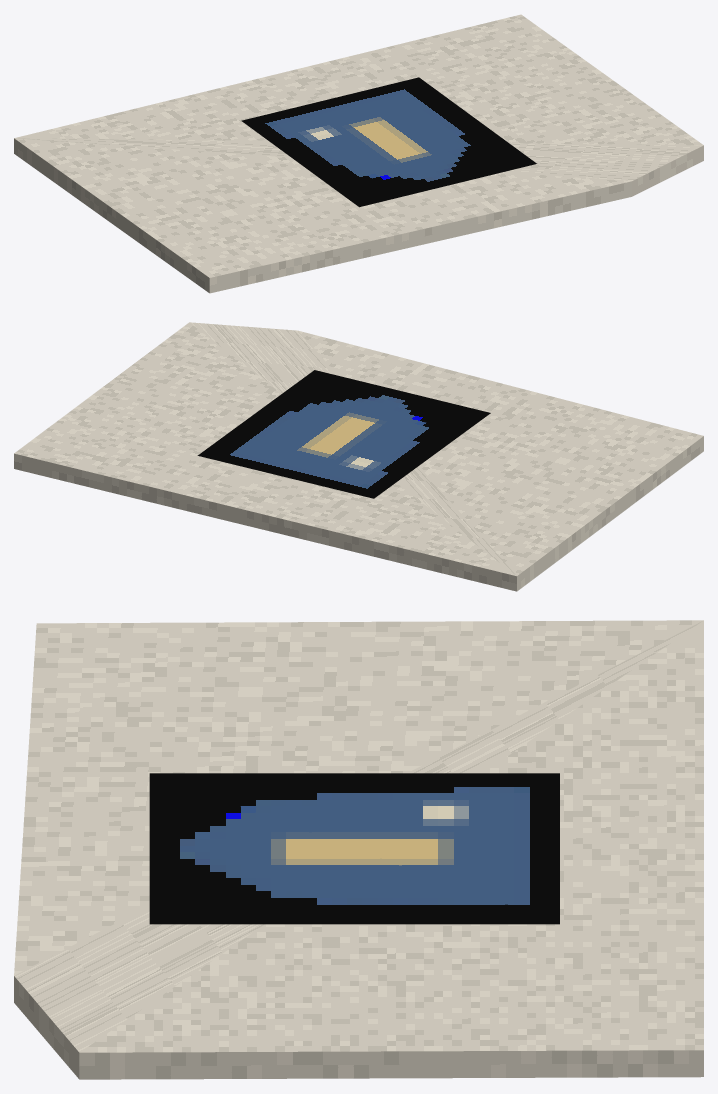
Rendered from state_flag.glb.
3 renders of one model, top to bottom at view 1: azimuth 30°, elevation 25°; view 2: azimuth 150°, elevation 25°; view 3: azimuth 270°, elevation 25°, orthographic. The views are drawn at different scales.
Visible parts, largest first — view 1: block_white flag textile, block_Massachusetts shield and star; view 2: block_white flag textile, block_Massachusetts shield and star; view 3: block_white flag textile, block_Massachusetts shield and star.
Part boxes in pixels (x1,y1,x2,y2): block_white flag textile: (14,14,703,293); block_Massachusetts shield and star: (241,77,536,207); block_white flag textile: (14,322,703,591); block_Massachusetts shield and star: (197,370,490,498); block_white flag textile: (14,620,703,1079); block_Massachusetts shield and star: (149,773,559,924).
Size of the model in its own units: 0.4007 by 0.0135 by 0.2702.
1 material, 1 textured.
